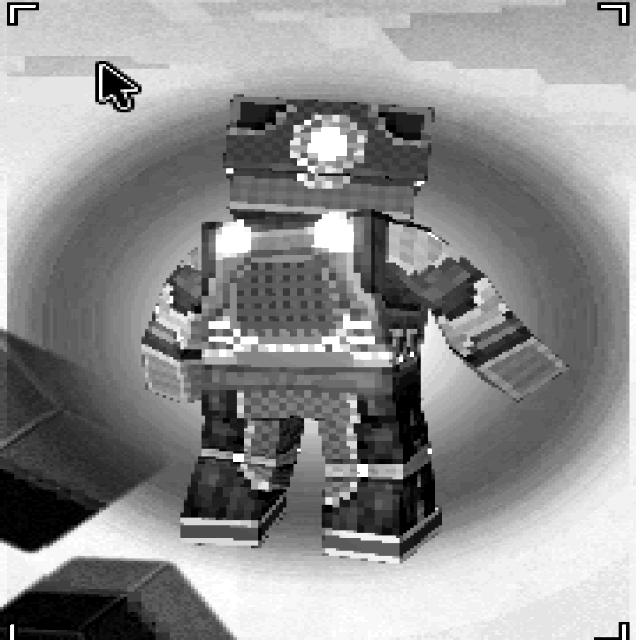Head: (219, 94, 432, 217)
Player: (138, 92, 566, 563)
